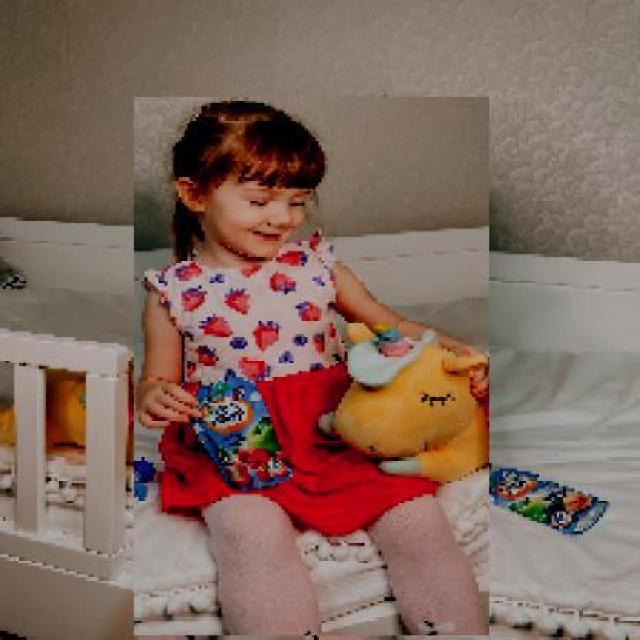child: (132, 97, 488, 637)
